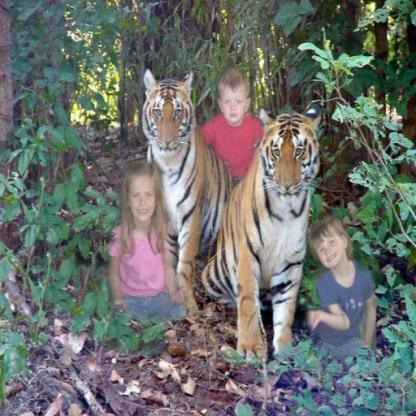Tiger: (138, 58, 235, 290), (237, 105, 309, 388)
